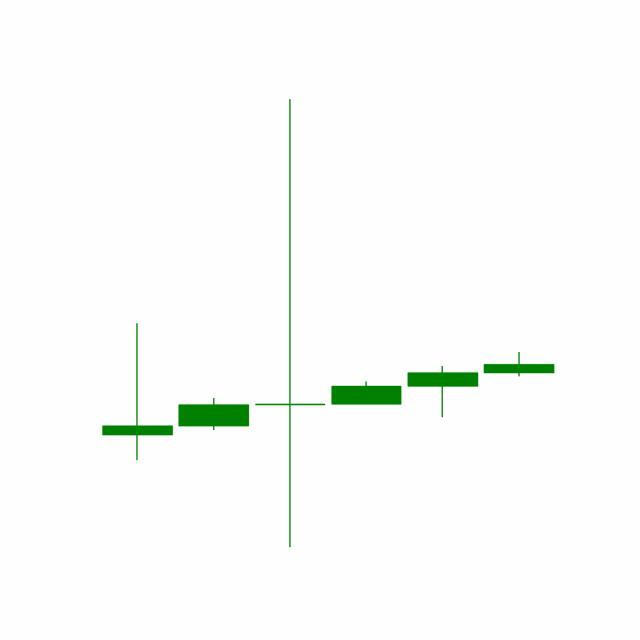Hanging Man: (403, 365, 481, 418)
